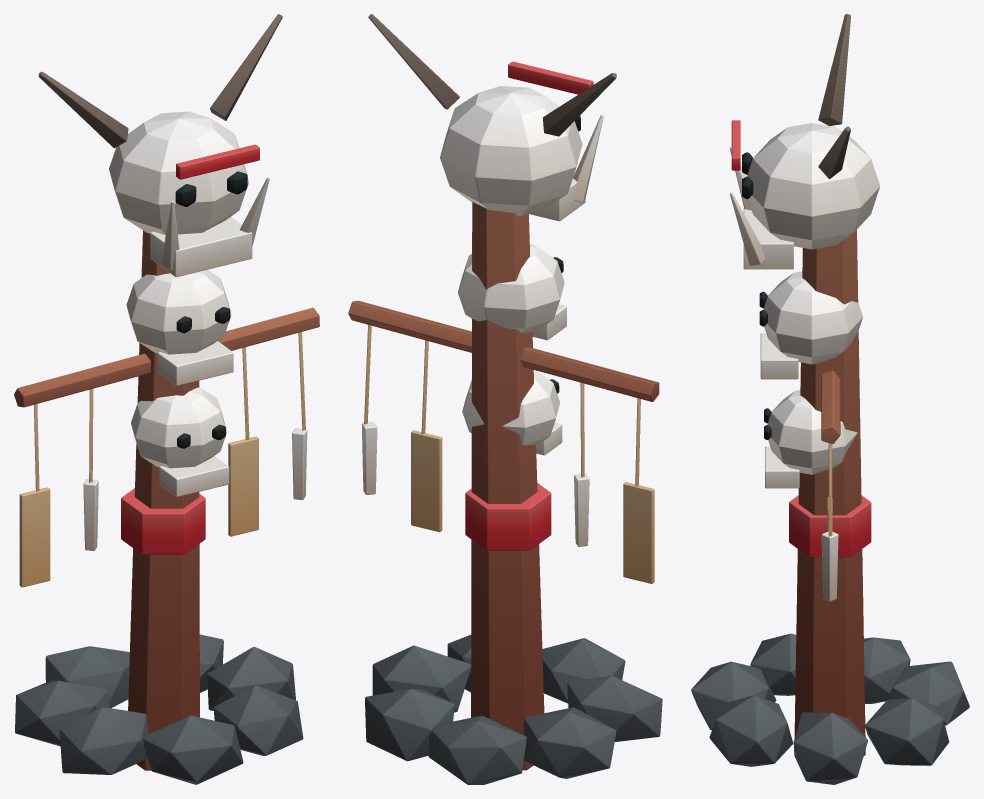
The model's file is troll_totem.glb.
3 views of the same model, side by side, from view 1: azimuth 30°, elevation 25°; view 2: azimuth 150°, elevation 25°; view 3: azimuth 270°, elevation 25° (orthographic). The views are drawn at different scales.
Visible parts, largest first — view 1: troll_totem; view 2: troll_totem; view 3: troll_totem.
Boxes of the visible parts, left/top/right/bottom form: troll_totem: left=14, top=14, right=319, bottom=784; troll_totem: left=348, top=14, right=662, bottom=784; troll_totem: left=691, top=14, right=969, bottom=784.
Size of the model in its own units: 1.85 by 4.21 by 1.55.
Materials: 1 (1 with a texture image).
